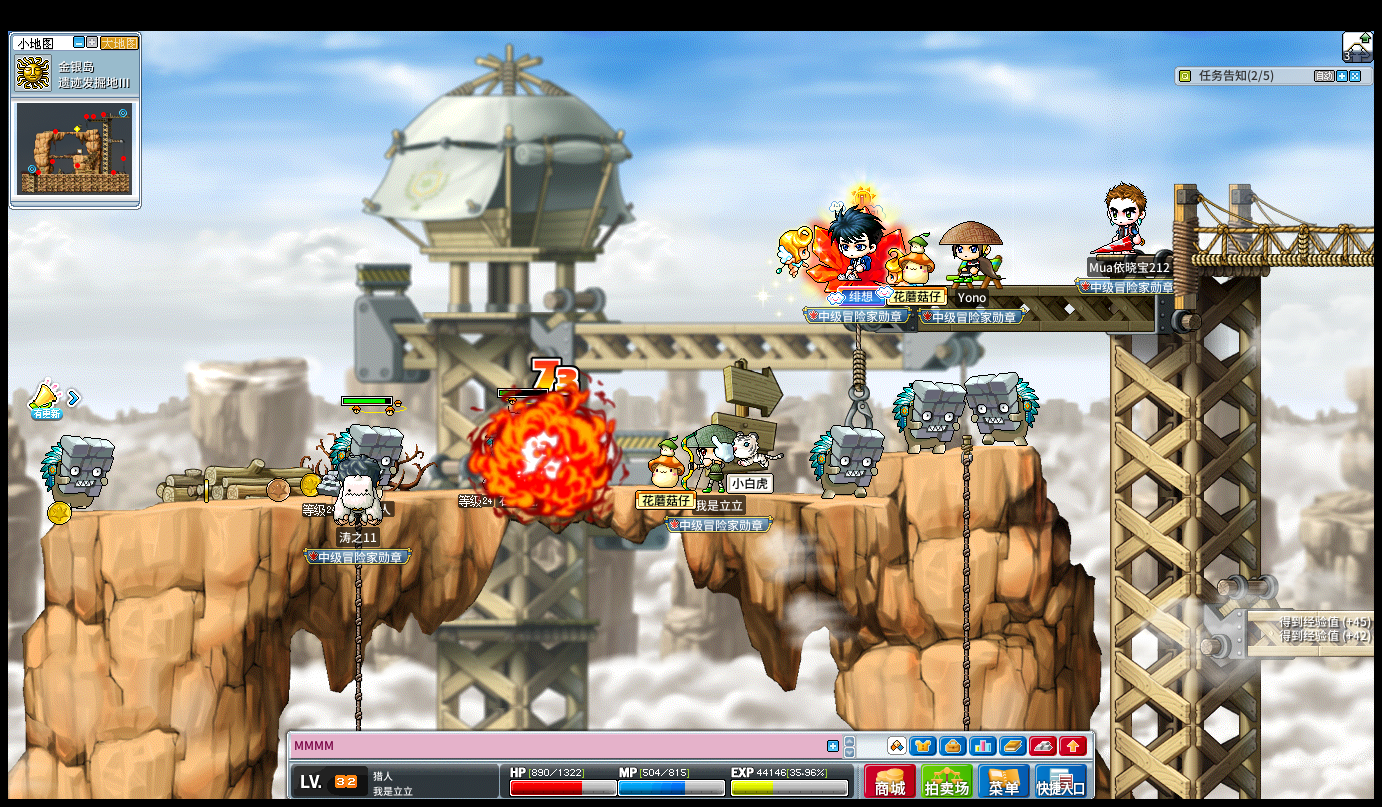floor: (56, 482, 836, 508), (55, 483, 964, 502), (1173, 219, 1375, 235), (1242, 604, 1376, 621)
monster: (40, 435, 114, 514), (809, 424, 884, 500), (966, 371, 1040, 447), (893, 379, 962, 455), (331, 423, 402, 481)
rope: (958, 437, 973, 714), (351, 498, 363, 807), (351, 507, 362, 721), (353, 529, 363, 712)
